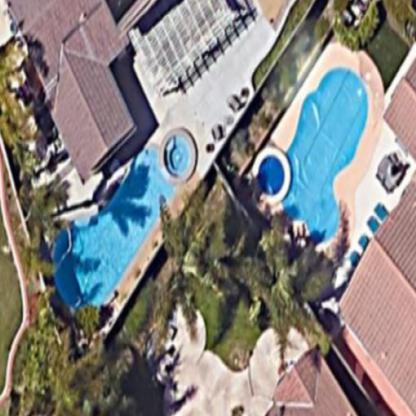pool: (39, 137, 195, 317), (282, 56, 372, 250)
